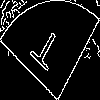T: (25, 24, 64, 81)
